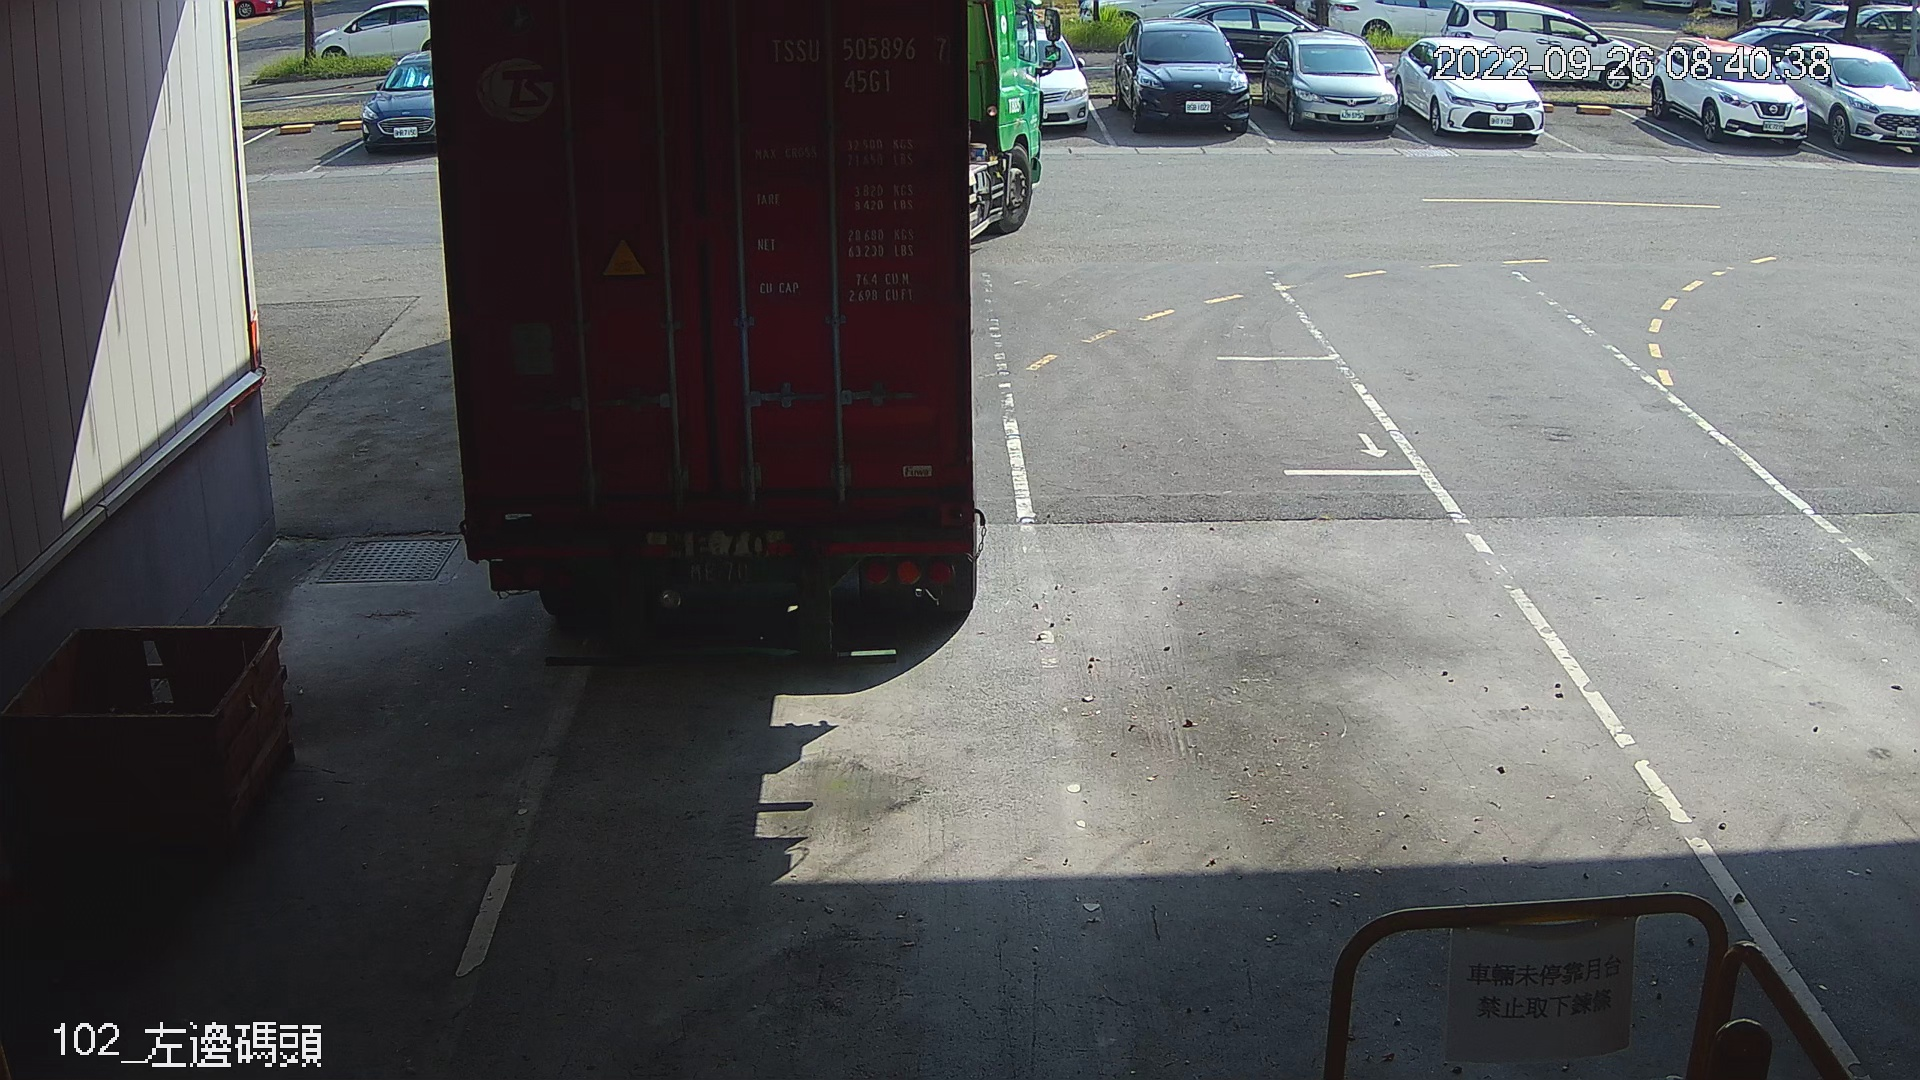container: (756, 26, 956, 102)
